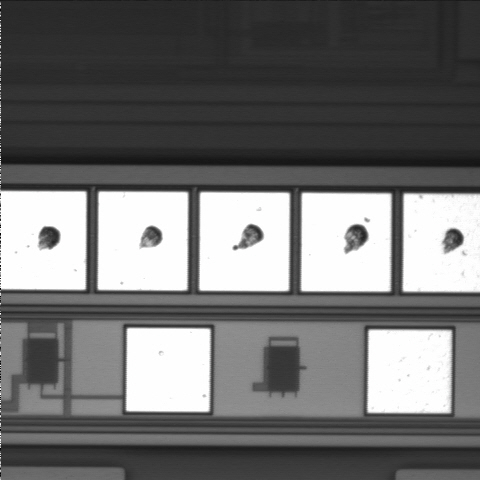pad: (200, 192, 290, 291), (98, 192, 188, 290), (301, 193, 391, 291), (126, 328, 210, 412), (368, 330, 451, 413)
